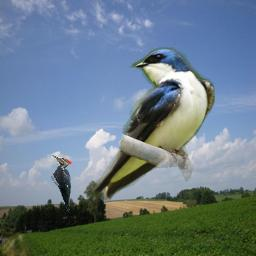Swallow: (90, 47, 215, 201)
Woodpecker: (50, 154, 72, 213)
